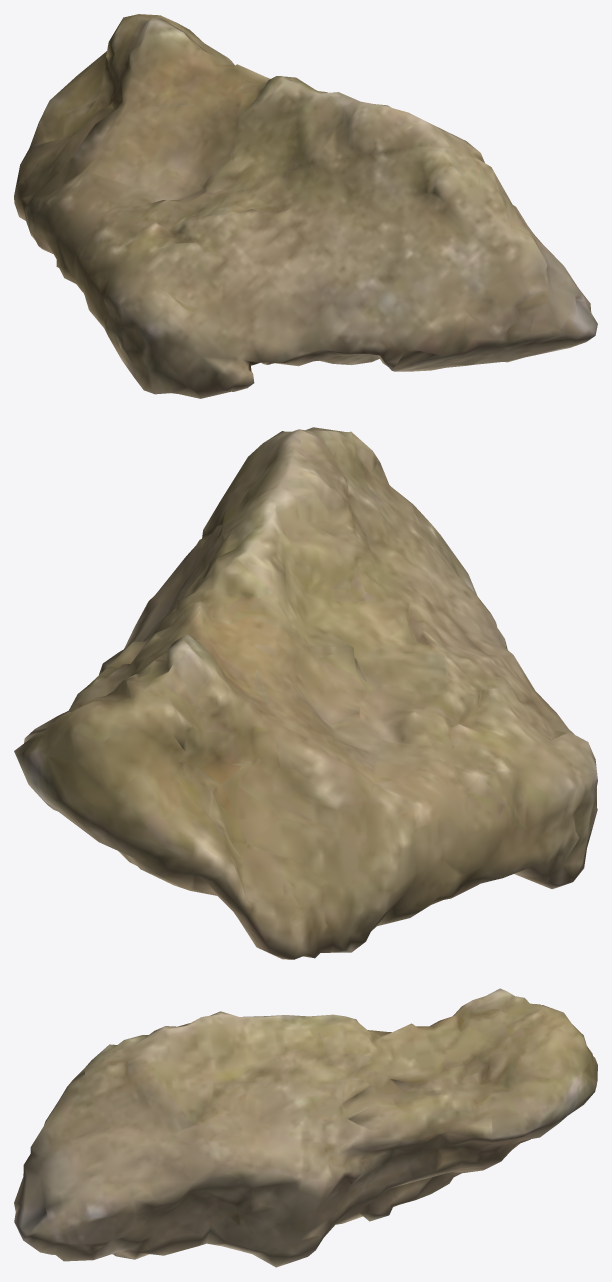
File: rock-moss-a.glb
3 views of the same model, one above another, from view 1: azimuth 30°, elevation 25°; view 2: azimuth 150°, elevation 25°; view 3: azimuth 270°, elevation 25° (orthographic). The views are drawn at different scales.
Parts seen in each view (by area): view 1: low; view 2: low; view 3: low.
Part boxes in pixels (box(x1,y1,x2,y2)): low: box(14, 14, 597, 398); low: box(14, 427, 597, 959); low: box(14, 988, 597, 1267).
Bounding box in the file's own units: 1.52 × 0.9965 × 2.28.
1 material, 1 textured.
